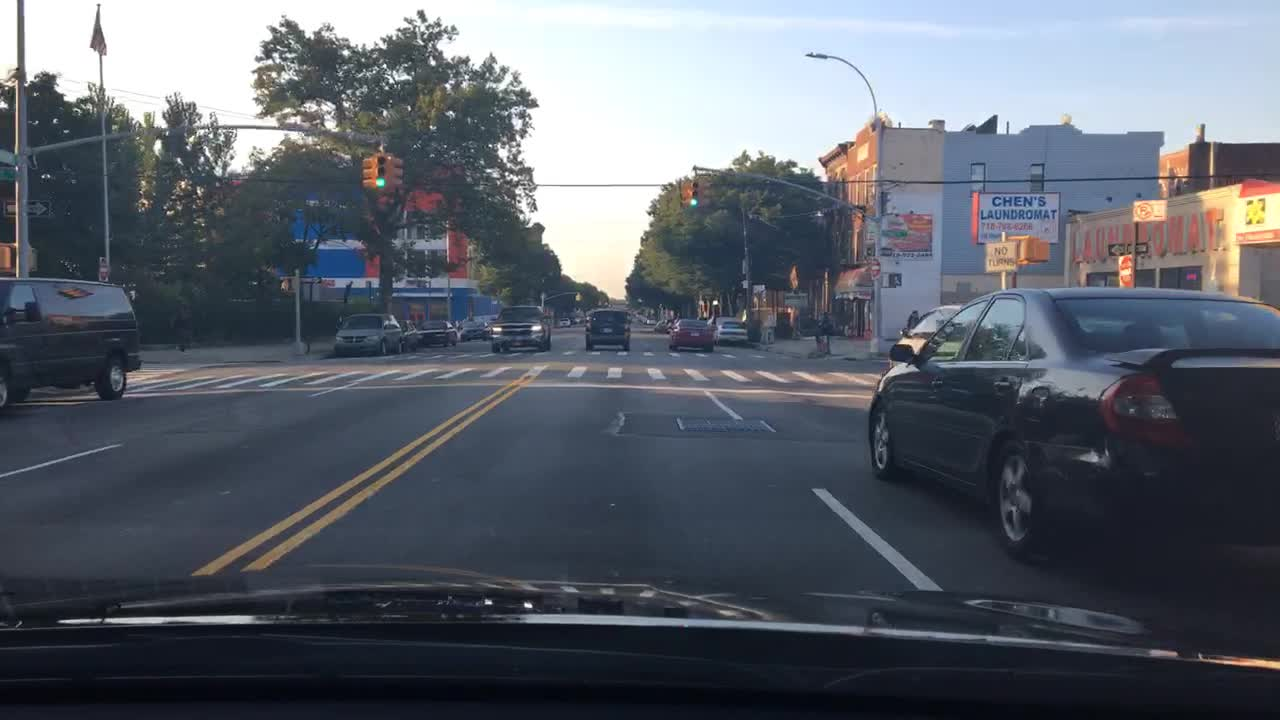car: (864, 283, 1279, 570), (0, 273, 144, 409), (887, 302, 977, 376), (330, 310, 403, 355), (489, 304, 554, 351), (584, 306, 632, 353), (667, 317, 715, 353), (706, 316, 749, 343), (417, 318, 457, 346), (398, 320, 425, 349), (460, 320, 490, 339), (653, 320, 669, 331), (558, 317, 572, 329), (645, 317, 662, 326)
person: (900, 309, 923, 335), (822, 310, 833, 347)
traffic light: (1014, 232, 1050, 264), (0, 243, 17, 274), (388, 157, 403, 191), (361, 158, 376, 190), (375, 155, 387, 190), (688, 178, 702, 207), (677, 180, 690, 208), (280, 280, 294, 293), (572, 292, 585, 303)
traffic sign: (977, 191, 1062, 241), (983, 241, 1014, 270), (1132, 195, 1166, 219), (1, 200, 48, 216), (1116, 256, 1132, 289), (1108, 243, 1148, 256), (95, 258, 109, 280), (0, 147, 15, 166), (878, 229, 907, 237), (868, 257, 879, 278), (0, 170, 13, 182), (739, 277, 751, 288), (751, 283, 767, 291)
